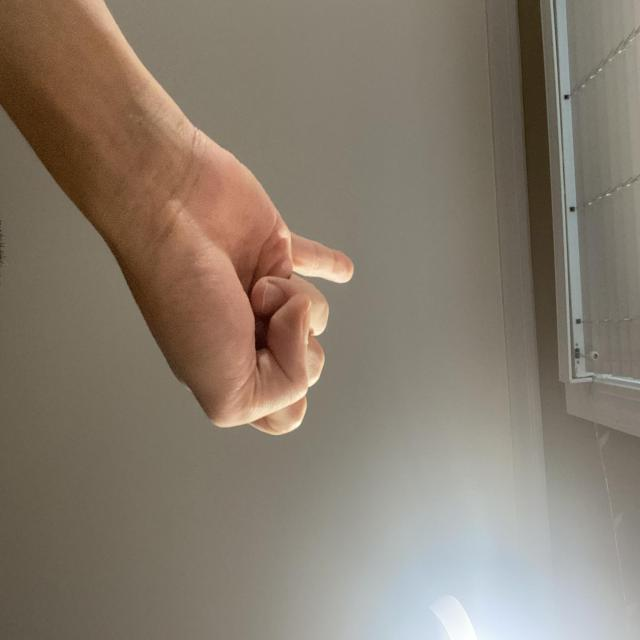I: (235, 374, 494, 640)
